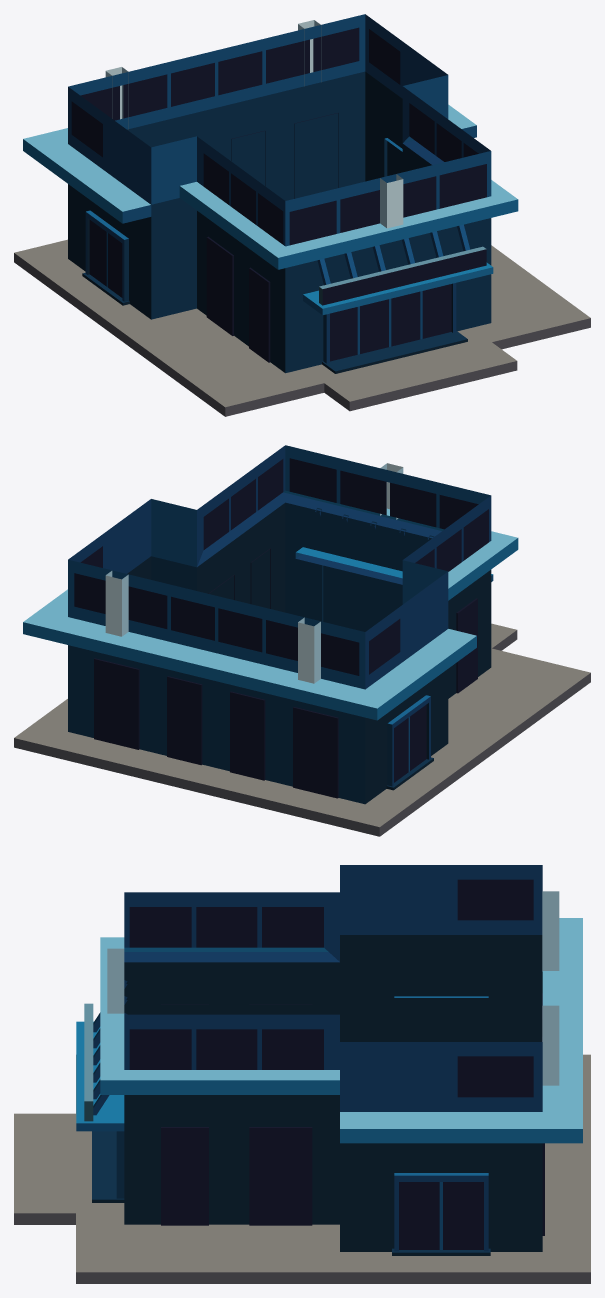
File: TB_CITY_Skysc_B_Bottom_Blue.FBX
3 renders of one model, top to bottom at view 1: azimuth 30°, elevation 25°; view 2: azimuth 150°, elevation 25°; view 3: azimuth 270°, elevation 25°, orthographic. The views are drawn at different scales.
Parts seen in each view (by area): view 1: TB_CITY_Skysc_B_Bottom_Blue; view 2: TB_CITY_Skysc_B_Bottom_Blue; view 3: TB_CITY_Skysc_B_Bottom_Blue.
Part boxes in pixels (bbox=[...]): TB_CITY_Skysc_B_Bottom_Blue: bbox=[14, 14, 590, 416]; TB_CITY_Skysc_B_Bottom_Blue: bbox=[14, 445, 590, 836]; TB_CITY_Skysc_B_Bottom_Blue: bbox=[14, 865, 590, 1283].
Size of the model in its own units: 32 by 15.2 by 35.86.
